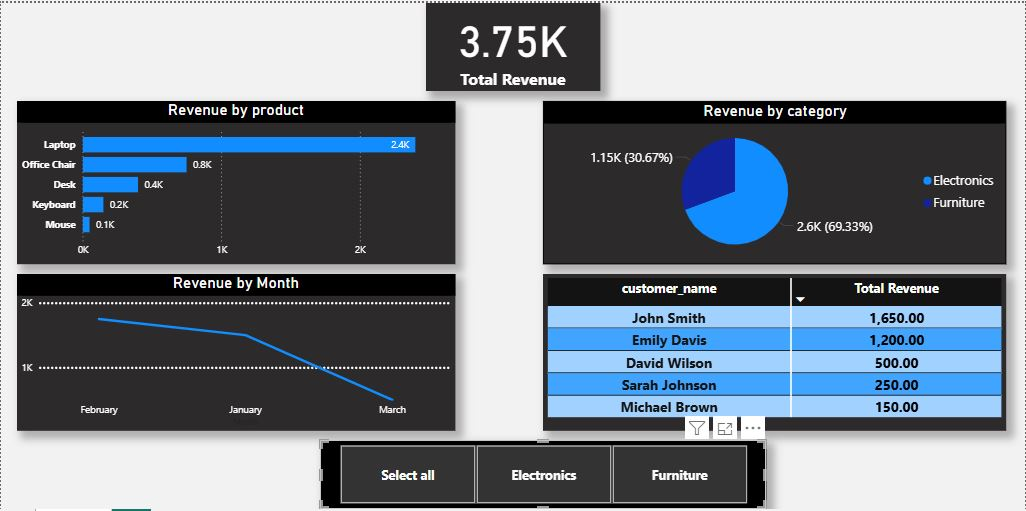

This screenshot's page, from the dashboard's own definition file:
{"tool":"powerbi","page":{"name":"Page 1","canvas":[1280,720],"ordinal":0},"visuals":[{"type":"card","fields":{"Values":["ecommerce_db order_details.Total Revenue"]},"box":[531.2,0,217.5,110],"z":0},{"type":"clusteredBarChart","title":"Revenue by product","fields":{"Category":["ecommerce_db products.product_name"],"Y":["ecommerce_db order_details.Total Revenue"]},"box":[20,122.5,547.5,203.8],"z":1000},{"type":"pieChart","title":"Revenue by category","fields":{"Category":["ecommerce_db products.category"],"Y":["ecommerce_db order_details.Total Revenue"]},"box":[677.5,122.5,578.8,203.8],"z":2000},{"type":"tableEx","fields":{"Values":["ecommerce_db customers.customer_name","ecommerce_db order_details.Total Revenue"]},"box":[677.5,338.8,578.8,196.2],"z":3000},{"type":"lineChart","title":"Revenue by Month","fields":{"Category":["ecommerce_db orders.Month"],"Y":["ecommerce_db order_details.Total Revenue"]},"box":[20,338.8,547.5,196.2],"z":4000},{"type":"slicer","fields":{"Values":["ecommerce_db products.category"]},"box":[398.8,546.2,557.5,86.2],"z":5000}]}

Visuals, with their boxes on the page's 1280x720 design canvas (x1, y1, x2, y2). These are canvas units, not pixel positions in the 1026x511 screenshot, which may show the page scaled, cropped or inside an application window:
card - ecommerce_db order_details.Total Revenue: x1=531 y1=0 x2=749 y2=110
"Revenue by product" clusteredBarChart: x1=20 y1=122 x2=568 y2=326
"Revenue by category" pieChart: x1=678 y1=122 x2=1256 y2=326
tableEx - ecommerce_db customers.customer_name x ecommerce_db order_details.Total Revenue: x1=678 y1=339 x2=1256 y2=535
"Revenue by Month" lineChart: x1=20 y1=339 x2=568 y2=535
slicer - ecommerce_db products.category: x1=399 y1=546 x2=956 y2=632
